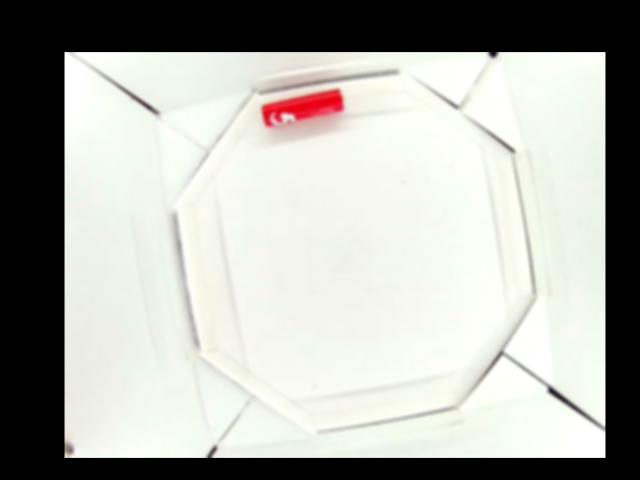Battery: (260, 88, 343, 125)
